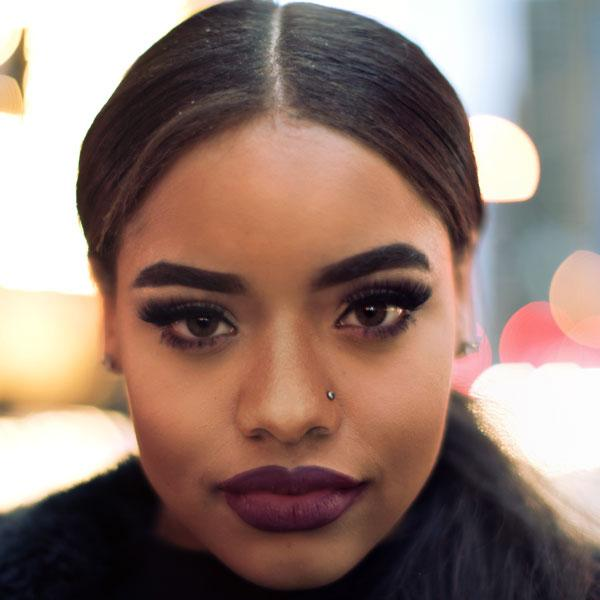Eyes: (322, 275, 431, 358), (131, 293, 248, 359)
